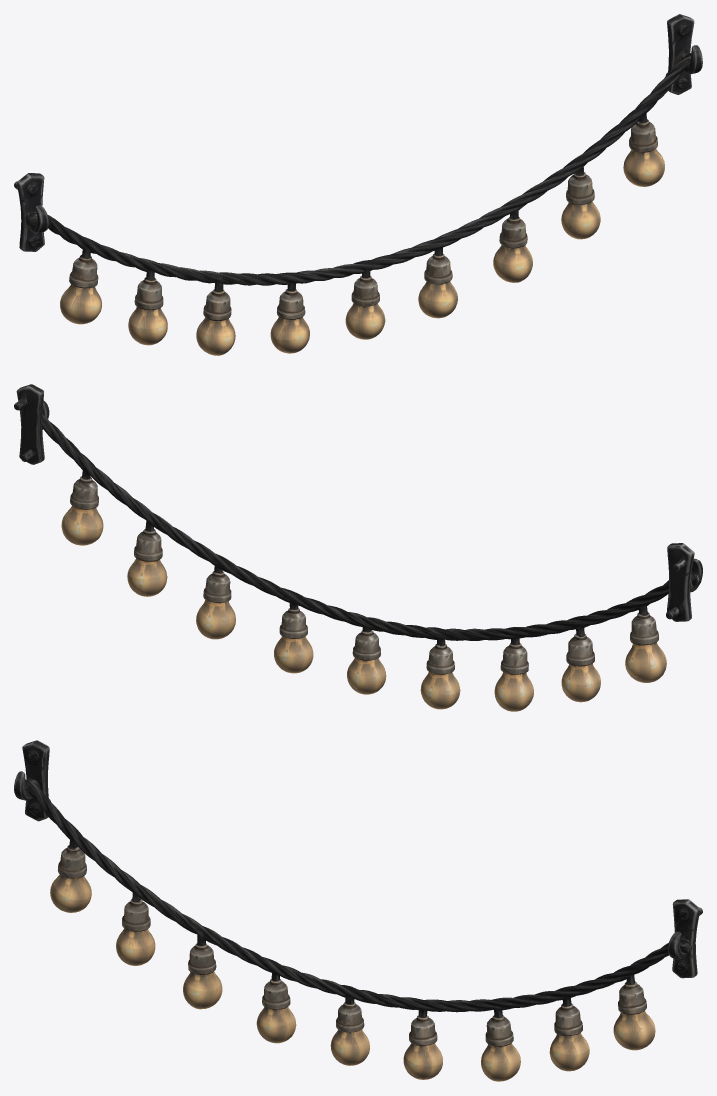
File: M05_StringLights.fbx
3 renders of one model, top to bottom at view 1: azimuth 30°, elevation 25°; view 2: azimuth 150°, elevation 25°; view 3: azimuth 330°, elevation 25°, orthographic.
Visible parts, largest first — view 1: M05_StringLights.021; view 2: M05_StringLights.021; view 3: M05_StringLights.021.
Boxes of the visible parts, x1=… form: M05_StringLights.021: x1=14, y1=14, x2=702, y2=355; M05_StringLights.021: x1=14, y1=384, x2=702, y2=711; M05_StringLights.021: x1=14, y1=740, x2=702, y2=1081.
Bounding box in the file's own units: 6 × 2 × 0.451.
1 material, 1 textured.
